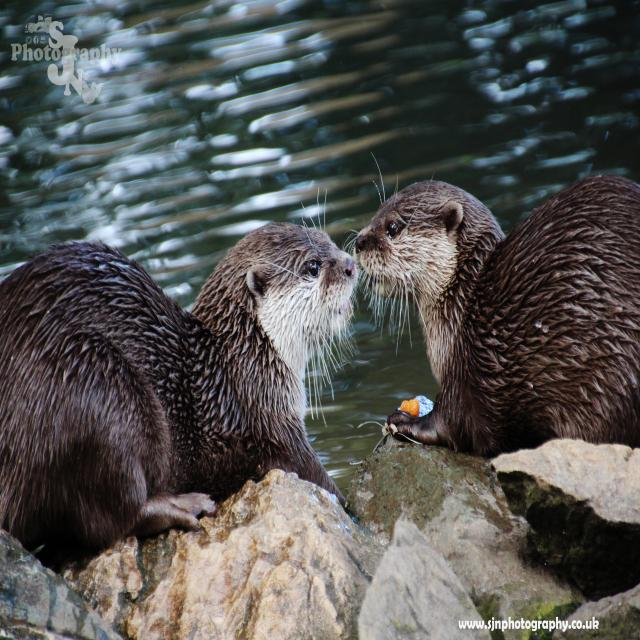otter: (1, 223, 360, 536), (358, 183, 640, 446)
